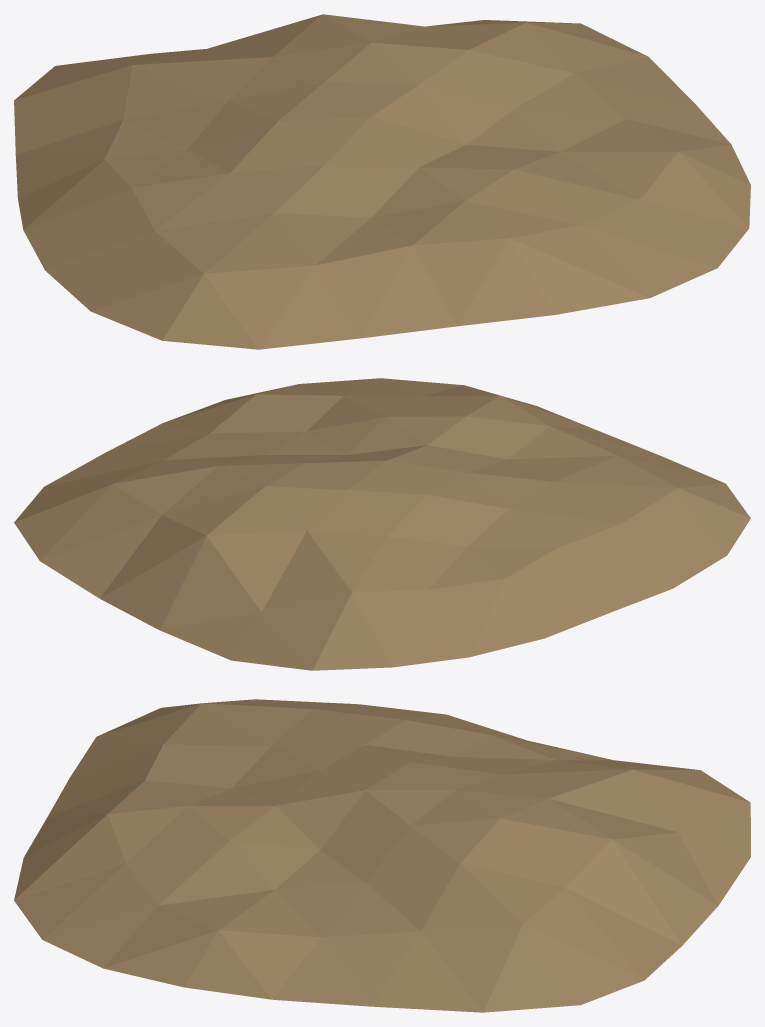
The model's file is model_polytope_ground_sand.fbx.
3 renders of one model, top to bottom at view 1: azimuth 30°, elevation 25°; view 2: azimuth 150°, elevation 25°; view 3: azimuth 270°, elevation 25°, orthographic. The views are drawn at different scales.
Visible parts, largest first — view 1: model_polytope_ground_sand; view 2: model_polytope_ground_sand; view 3: model_polytope_ground_sand.
Part boxes in pixels (x1=…): model_polytope_ground_sand: x1=14, y1=14, x2=750, y2=349; model_polytope_ground_sand: x1=14, y1=378, x2=750, y2=670; model_polytope_ground_sand: x1=14, y1=699, x2=750, y2=1012.
Bounding box in the file's own units: 443 × 54.26 × 437.
1 material, 1 textured.
